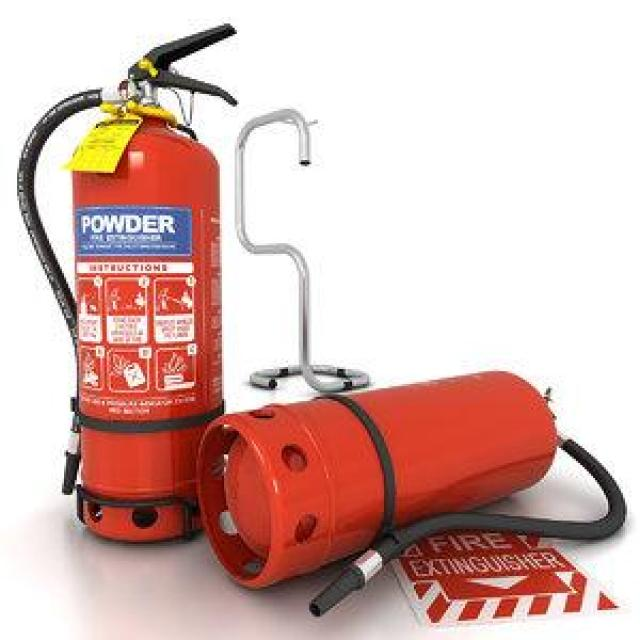fire_extinguisher: (8, 14, 252, 551), (190, 363, 629, 623)
